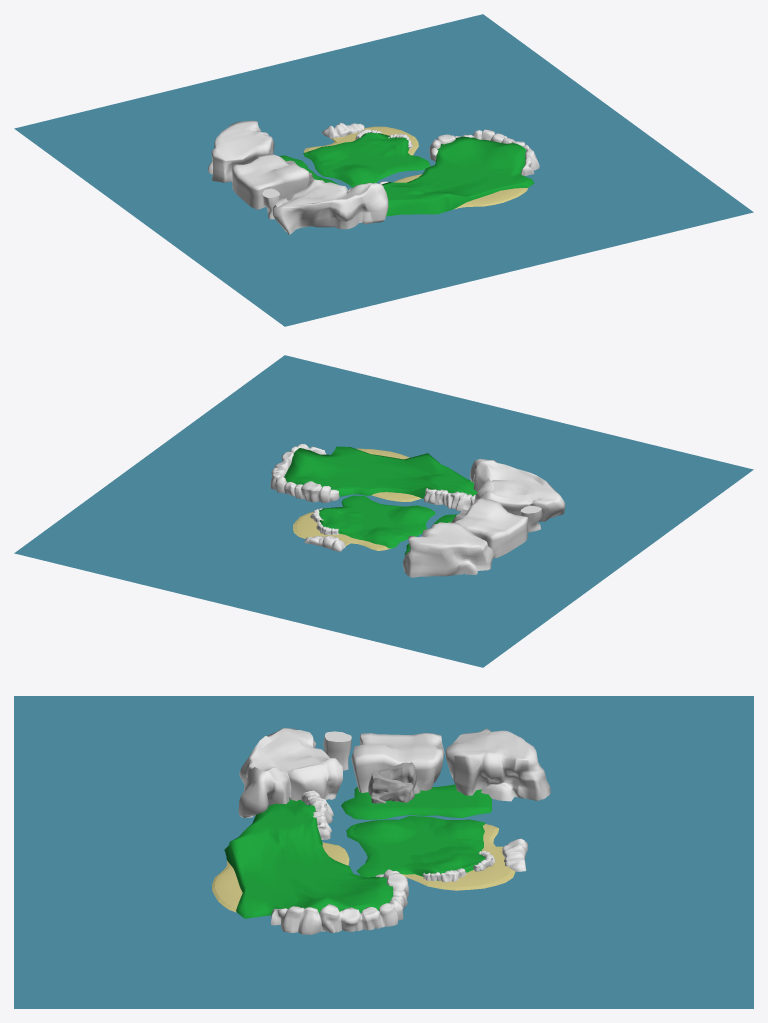
File: Island_To_Unity.fbx
3 renders of one model, top to bottom at view 1: azimuth 30°, elevation 25°; view 2: azimuth 150°, elevation 25°; view 3: azimuth 270°, elevation 25°, orthographic. The views are drawn at different scales.
Parts seen in each view (by area): view 1: Ocean, Mountain_Mesh, Grass_Mansion, Grass_Mainland, Grass_Mainland_flat, Cliff_Island_Border, Beach_Front, Beach_Rear; view 2: Ocean, Mountain_Mesh, Grass_Mansion, Grass_Mainland, Cliff_Island_Border, Grass_Mainland_flat, Beach_Front, Cliffs_mansion; view 3: Ocean, Mountain_Mesh, Grass_Mansion, Grass_Mainland, Cliff_Island_Border, Grass_R_plane, Grass_Mainland_flat, Beach_Front, Ramp_geo, Beach_Rear, Cliffs_mansion, Sea_cliffs.
Part boxes in pixels (bbox=[...]): Ocean: bbox=[14, 14, 753, 326]; Mountain_Mesh: bbox=[208, 120, 388, 234]; Grass_Mansion: bbox=[381, 136, 534, 216]; Grass_Mainland: bbox=[304, 132, 430, 187]; Grass_Mainland_flat: bbox=[303, 141, 430, 187]; Cliff_Island_Border: bbox=[429, 129, 539, 175]; Beach_Front: bbox=[304, 126, 418, 155]; Beach_Rear: bbox=[453, 188, 527, 209]; Ocean: bbox=[14, 355, 753, 667]; Mountain_Mesh: bbox=[403, 458, 565, 577]; Grass_Mansion: bbox=[284, 446, 477, 498]; Grass_Mainland: bbox=[319, 505, 435, 548]; Cliff_Island_Border: bbox=[270, 444, 339, 502]; Grass_Mainland_flat: bbox=[338, 495, 435, 548]; Beach_Front: bbox=[293, 512, 391, 550]; Cliffs_mansion: bbox=[423, 488, 475, 511]; Ocean: bbox=[14, 696, 753, 1008]; Mountain_Mesh: bbox=[238, 728, 550, 817]; Grass_Mansion: bbox=[224, 799, 393, 918]; Grass_Mainland: bbox=[347, 818, 485, 880]; Cliff_Island_Border: bbox=[271, 869, 408, 934]; Grass_R_plane: bbox=[341, 784, 491, 819]; Grass_Mainland_flat: bbox=[346, 816, 485, 877]; Beach_Front: bbox=[402, 824, 515, 890]; Ramp_geo: bbox=[368, 762, 420, 803]; Beach_Rear: bbox=[212, 860, 242, 912]; Cliffs_mansion: bbox=[301, 790, 333, 839]; Sea_cliffs: bbox=[502, 838, 528, 871].
Size of the model in its own units: 551 by 50.9 by 551.
